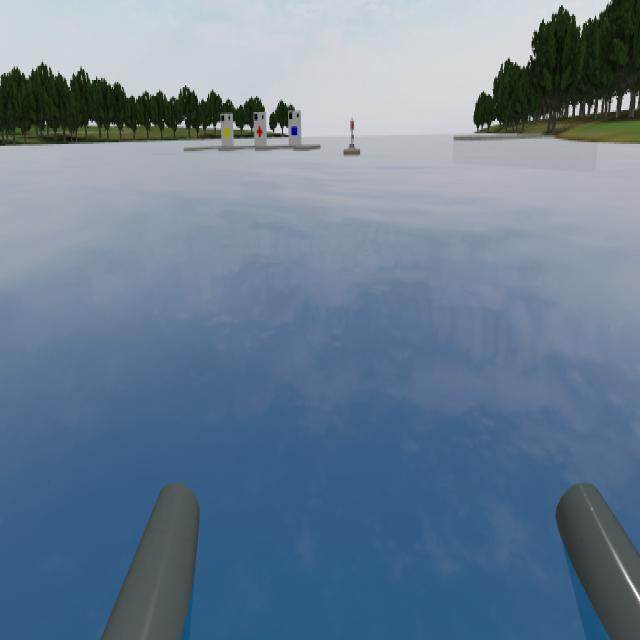red_pole: (345, 112, 358, 134)
